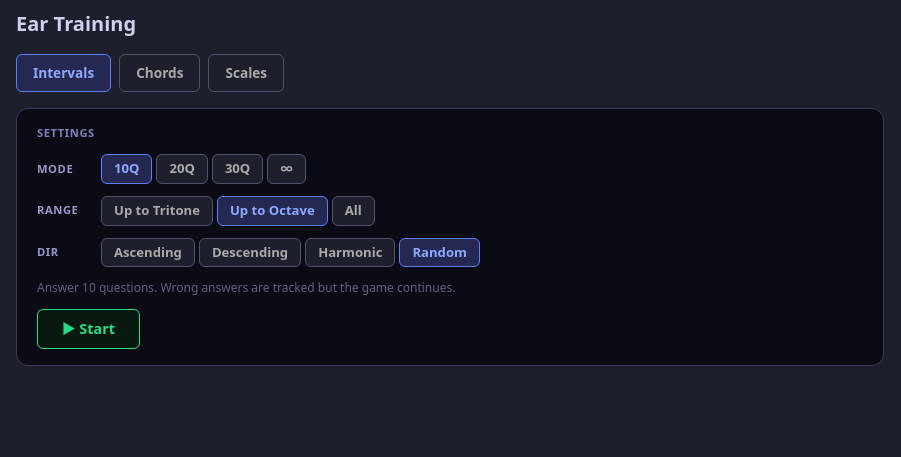
Test: EarTrainingPage – playing phase › shows Play Again button during playing phase
The image size is (901, 457).
Click the button "▶ Start": (88, 329) [37,309,140,349]
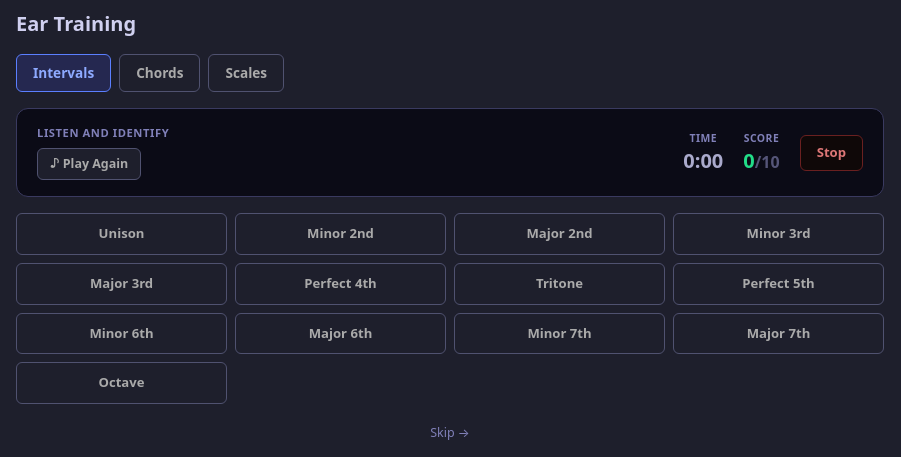
Expected: the button "♪ Play Again" is shown, [37,148,141,180]
